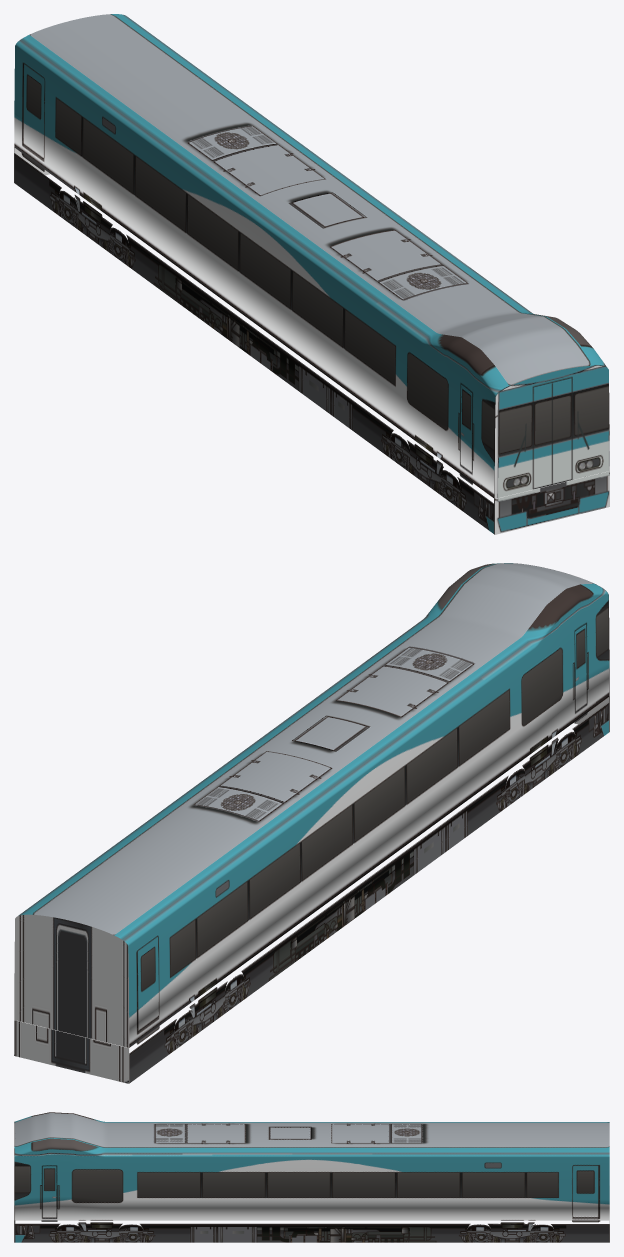
The model's file is car1.glb.
3 views of the same model, one above another, from view 1: azimuth 30°, elevation 25°; view 2: azimuth 150°, elevation 25°; view 3: azimuth 270°, elevation 25° (orthographic). The views are drawn at different scales.
Visible parts, largest first — view 1: kyototango-ktr8000-car1; view 2: kyototango-ktr8000-car1; view 3: kyototango-ktr8000-car1.
Boxes of the visible parts, x1,y1,x2,y2 form: kyototango-ktr8000-car1: (14,14,609,534); kyototango-ktr8000-car1: (14,563,609,1083); kyototango-ktr8000-car1: (14,1112,609,1242).
Size of the model in its own units: 2.91 by 4 by 21.13.
Materials: 9 (8 with a texture image).
